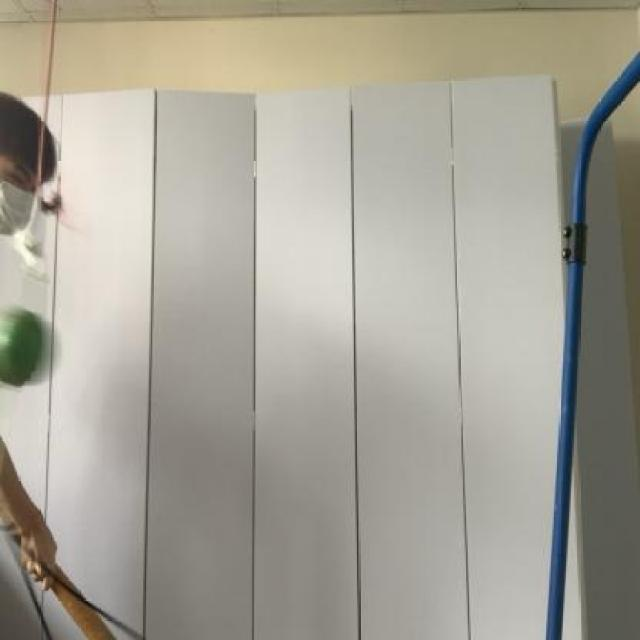baseball: (0, 306, 65, 396)
